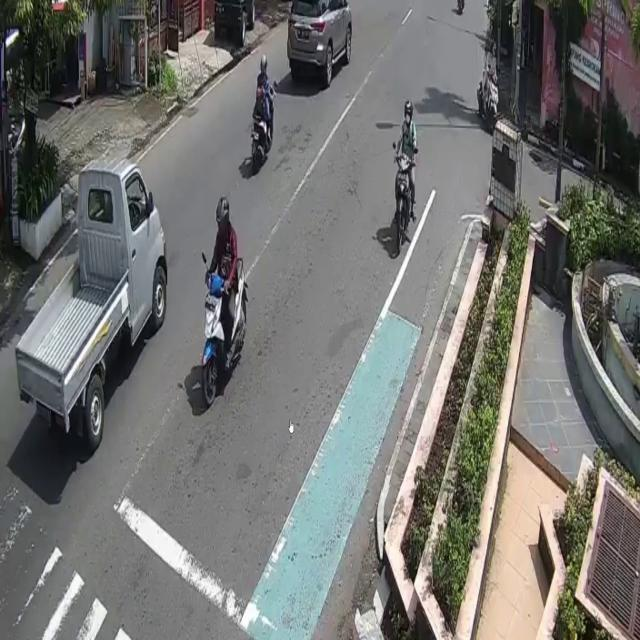bus: (201, 256, 248, 410), (250, 83, 274, 169), (393, 151, 413, 250), (477, 68, 502, 133)
motorcycle: (15, 157, 169, 451), (288, 0, 352, 88)
